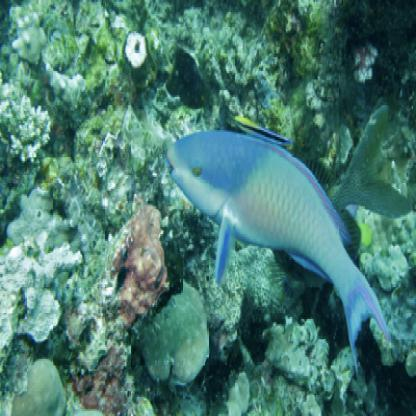parrot: (164, 117, 390, 377)
wrasse: (234, 108, 300, 159)
